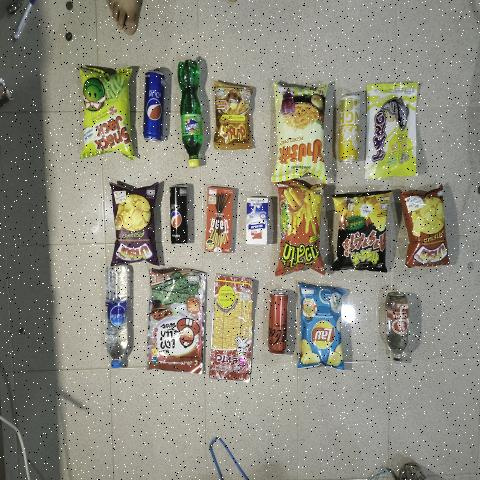bento_red: (210, 278, 254, 380)
coke_red: (270, 288, 290, 359)
crystal: (103, 262, 127, 376)
fanta_green: (176, 54, 202, 168)
karamujo: (332, 192, 386, 271)
lay_blue: (302, 285, 343, 367)
mama: (214, 75, 252, 147)
paprika: (275, 79, 328, 180)
party_purple: (111, 187, 157, 265)
party_red: (403, 189, 448, 269)
pepsi_black: (168, 187, 190, 247)
pepsi_blue: (142, 65, 167, 146)
pokki: (206, 186, 233, 250)
singha_soda: (382, 291, 412, 359)
singha_yellow: (338, 87, 361, 166)
snack_jack: (82, 70, 132, 155)
taokaenoi: (150, 269, 204, 375)
taro_yellow: (366, 82, 418, 176)
thai_denmark: (247, 192, 268, 246)
twisco: (279, 188, 324, 270)
